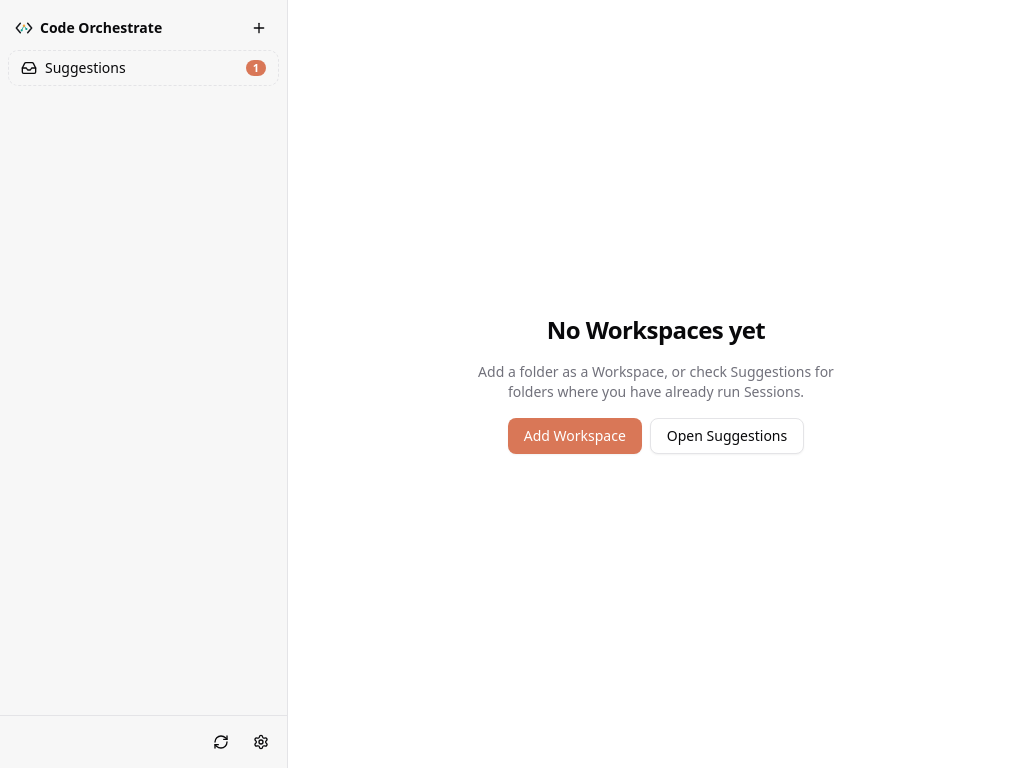
Suggestions inbox › adds a Suggestion as a Workspace with an editable name pre-filled from the folder
Click the button "Suggestions 1" at (85, 68), box [8, 50, 279, 86]
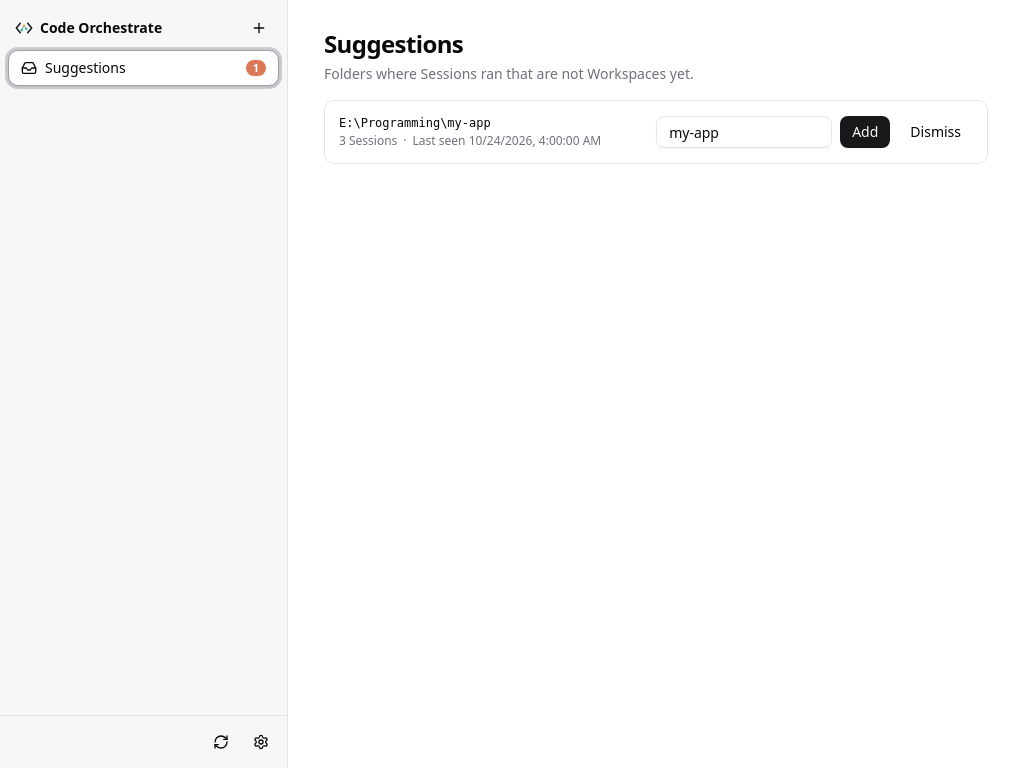
Now the field named "Name" holds "my-app"
Replace the text in the field named "Name" with "My App" at (744, 132), box [656, 116, 832, 148]
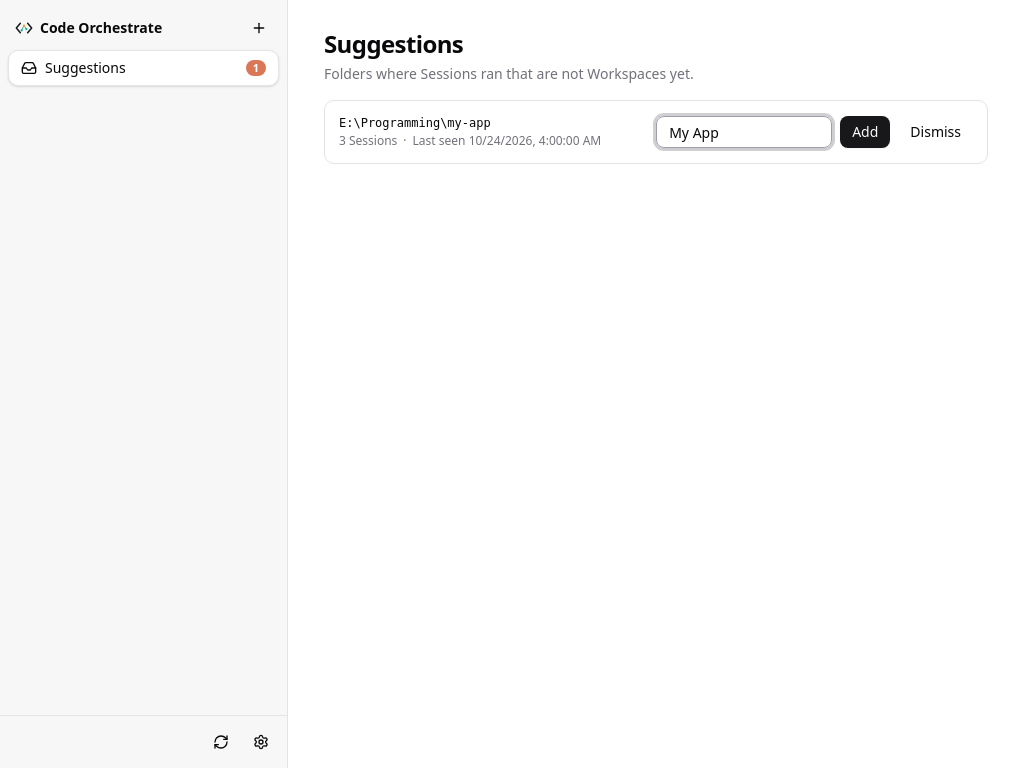
Click the button "Add" at (865, 132), box [840, 116, 890, 148]
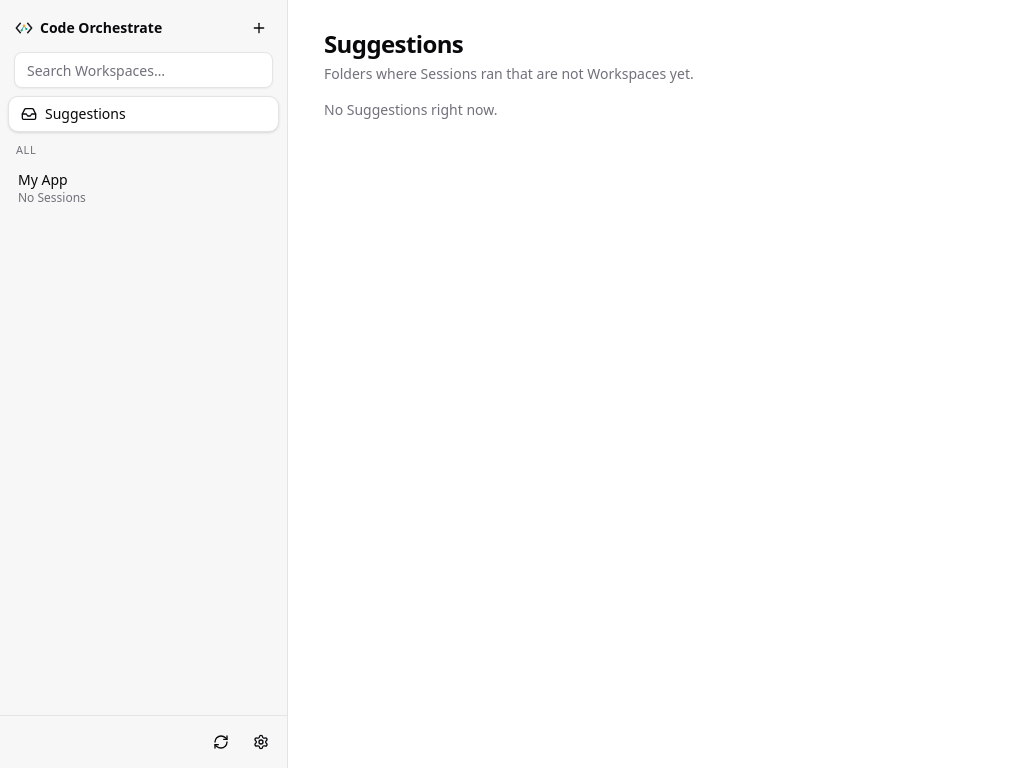
Now the button "My App No Sessions" is shown, box [8, 162, 279, 214]
Now the text "E:\\Programming\\my-app" is gone
